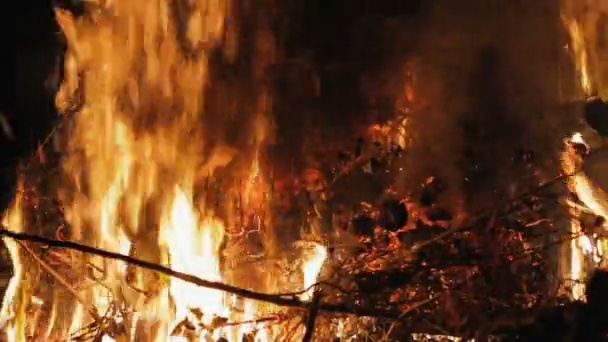fire: (29, 3, 221, 342), (559, 133, 608, 302), (569, 18, 592, 97), (298, 242, 327, 298)
